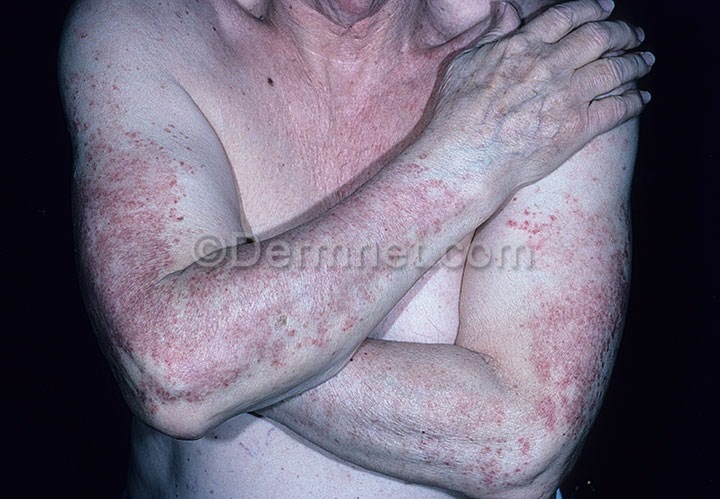Melasma: (82, 127, 196, 409), (532, 152, 612, 480), (334, 366, 509, 499), (361, 162, 489, 240)
